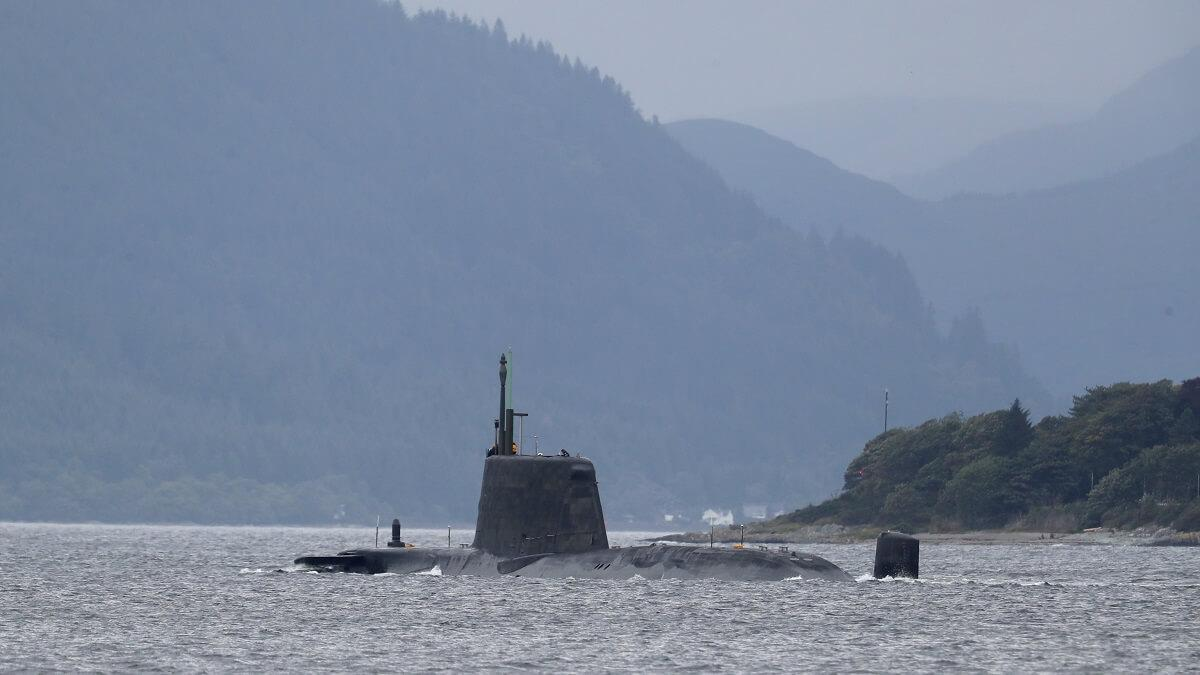Submarine: (168, 275, 1025, 675)
